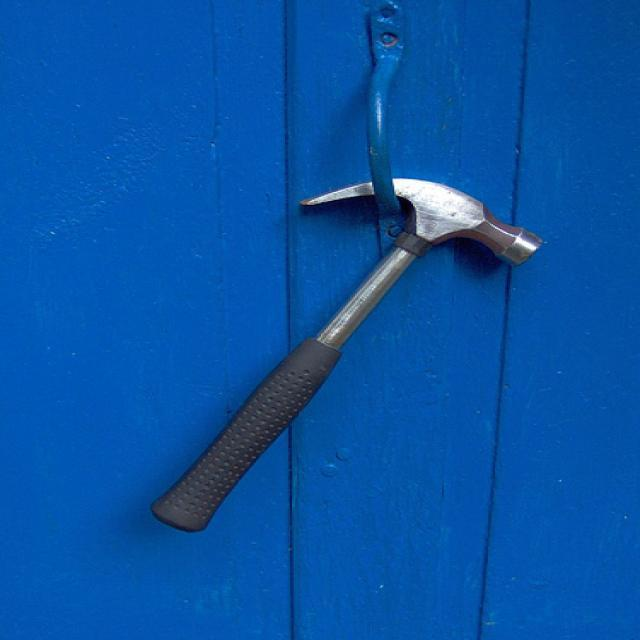hammer: (141, 170, 557, 544)
